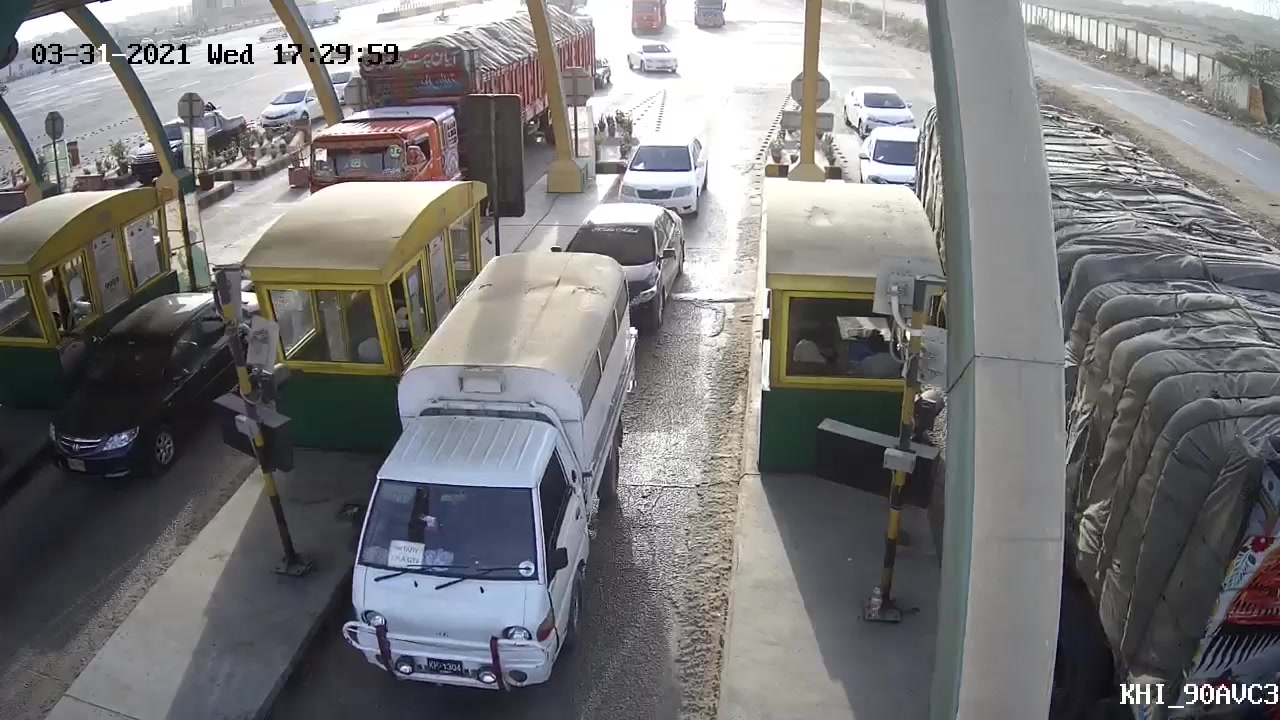F2: (334, 253, 647, 690)
